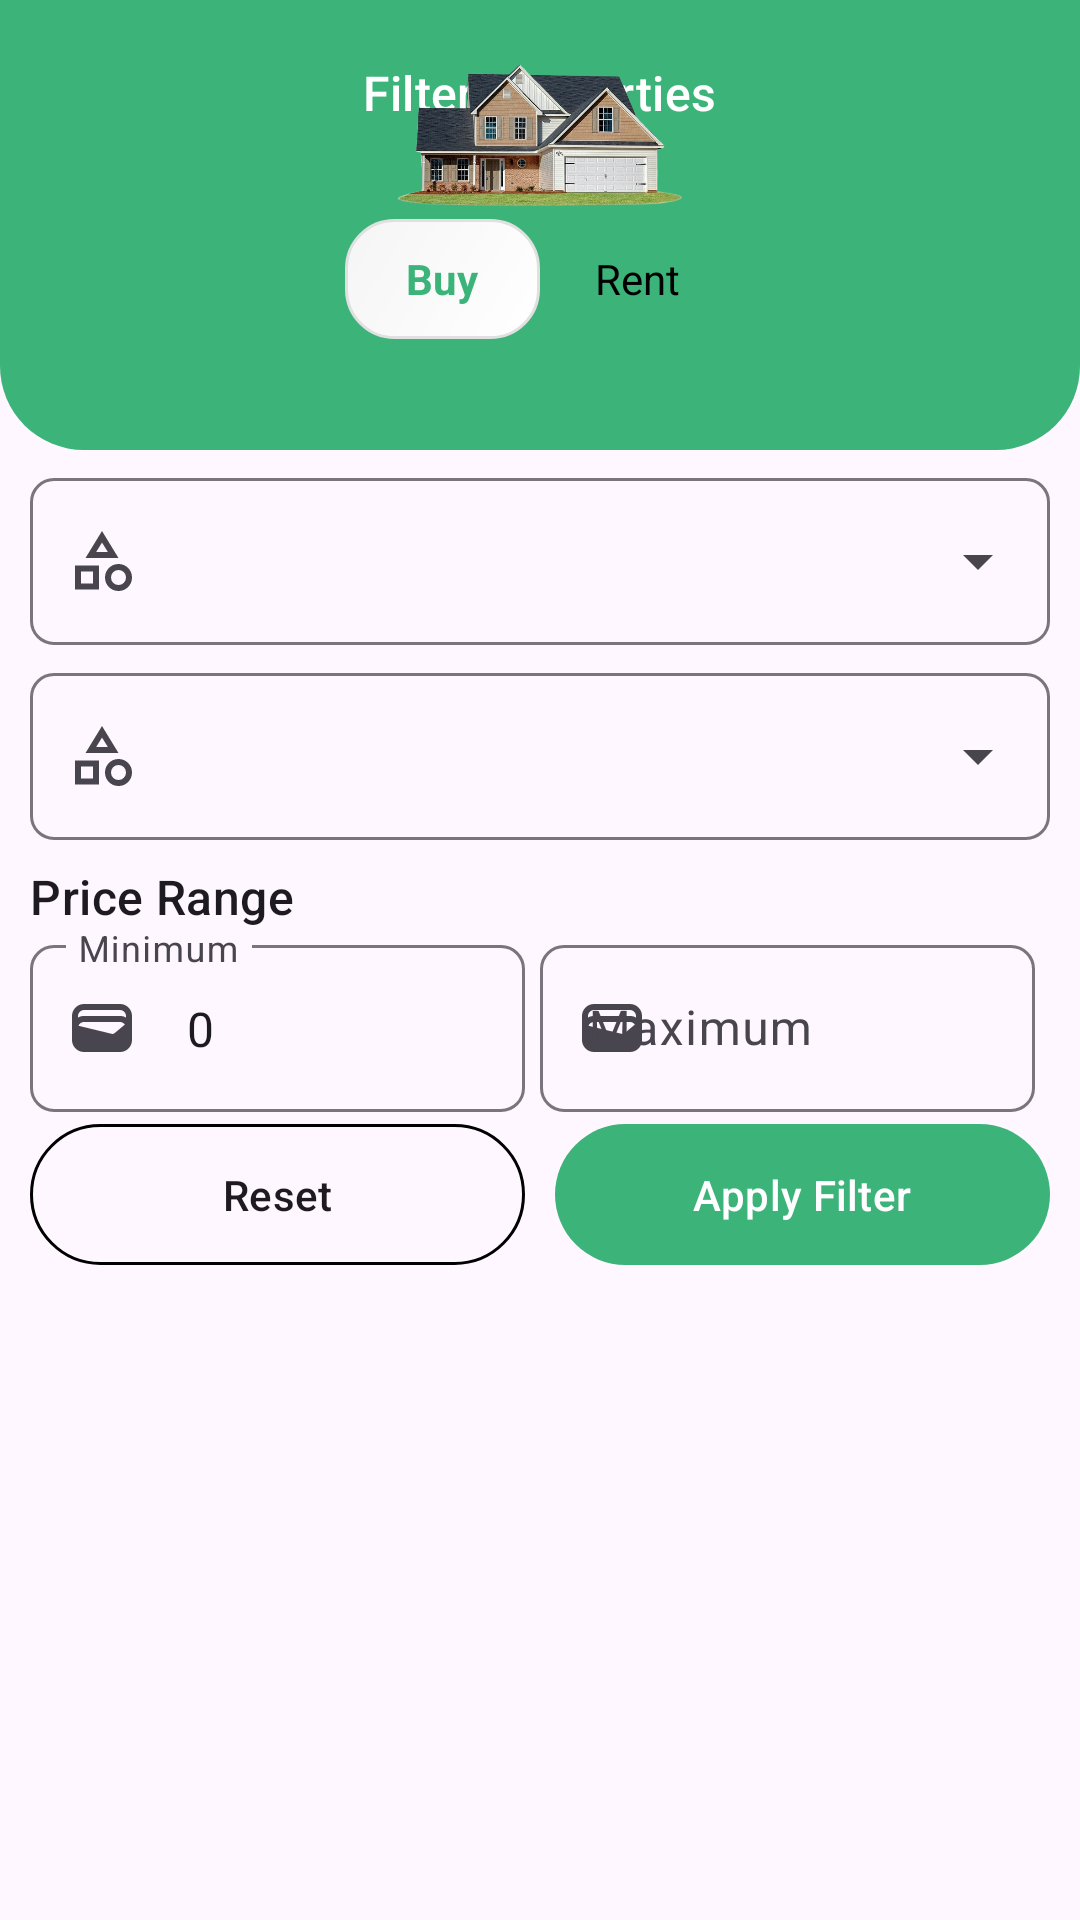

Screen size 1080px x 1920px. Icon name, then its center in pixels as [x,y]:
building: [541,135]
